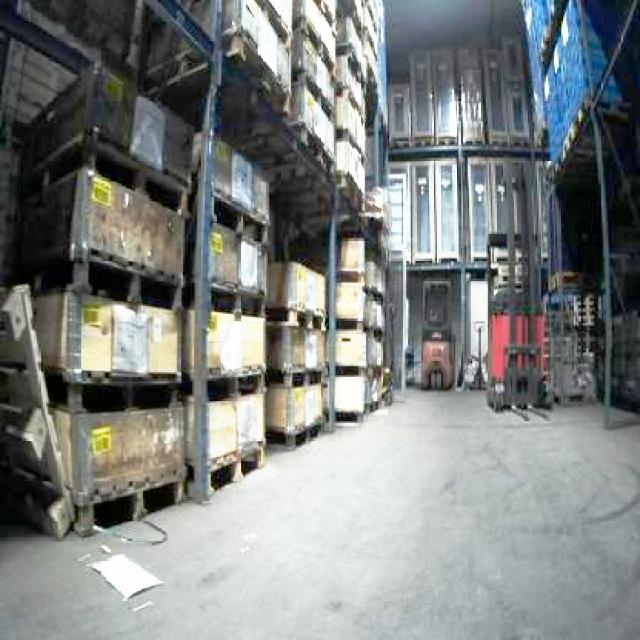ground: (0, 380, 638, 638)
pallet: (2, 63, 195, 537), (386, 37, 546, 391), (183, 128, 269, 500), (0, 282, 74, 538), (265, 258, 328, 449), (485, 229, 548, 412), (329, 234, 368, 425)
